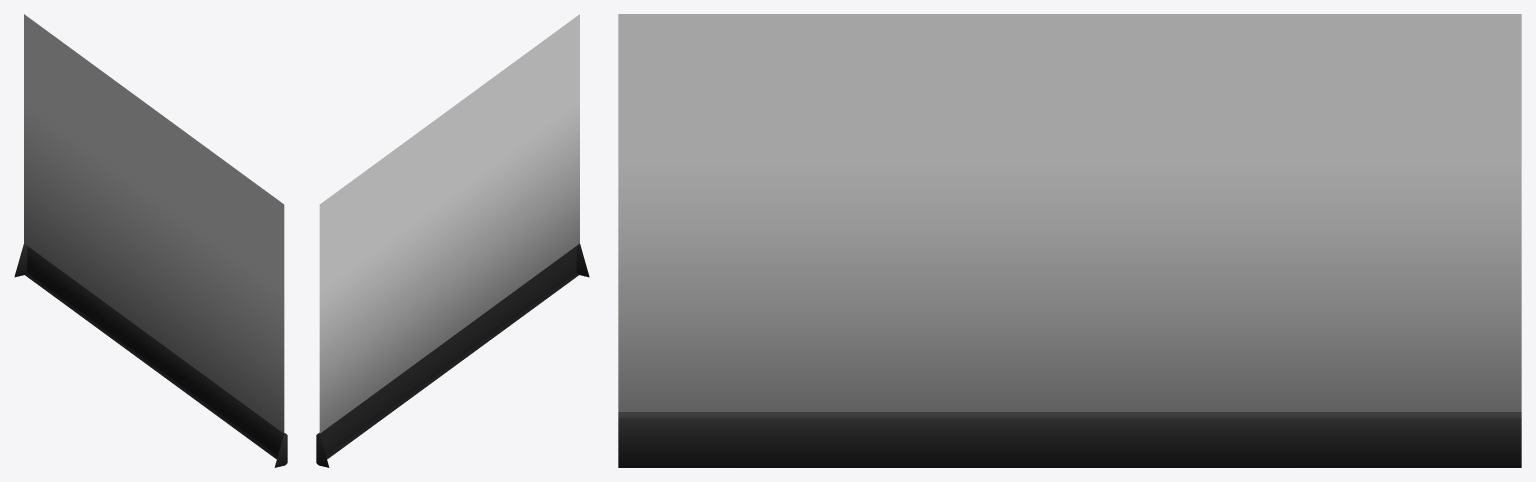
The model's file is LockerRoomWall.fbx.
3 renders of one model, left to right at view 1: azimuth 30°, elevation 25°; view 2: azimuth 150°, elevation 25°; view 3: azimuth 270°, elevation 25°, orthographic. The views are drawn at different scales.
Parts seen in each view (by area): view 1: wall01; view 2: wall01; view 3: wall01.
Part boxes in pixels (x1,y1,x2,y2): wall01: (14, 14, 287, 467); wall01: (316, 14, 589, 467); wall01: (618, 14, 1521, 467).
Size of the model in its own units: 62.12 by 1181 by 2133.
